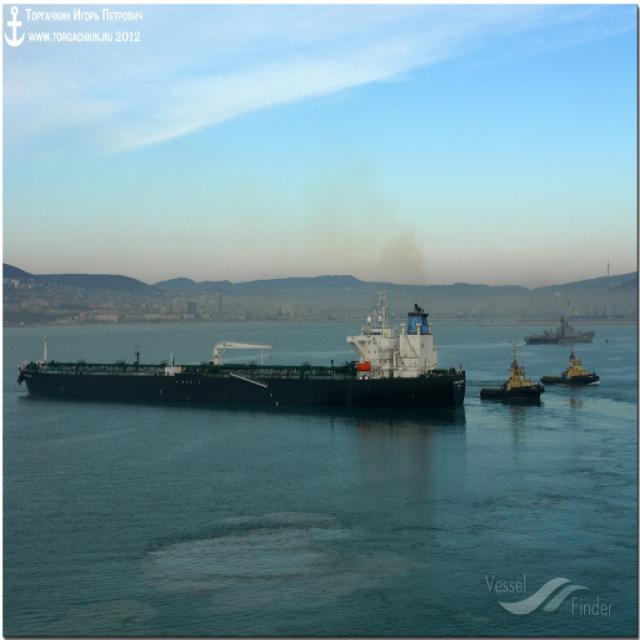Oil Tanker: (21, 319, 468, 406)
